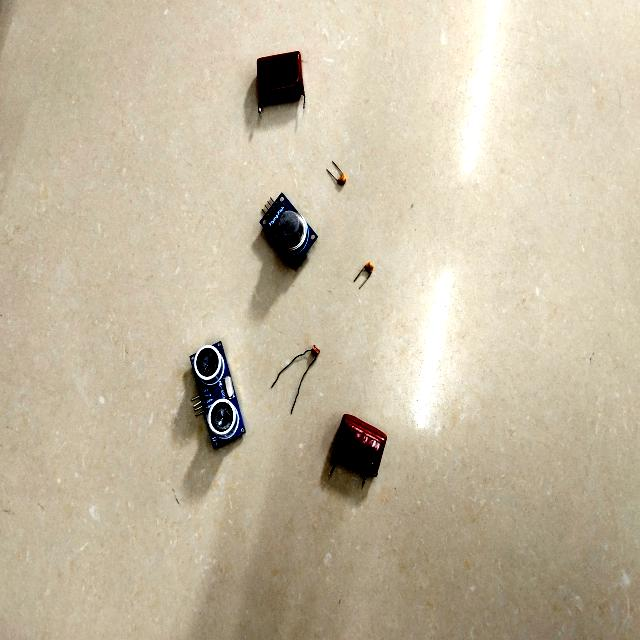capacitor: (330, 416, 386, 479), (256, 52, 304, 107), (355, 264, 373, 287), (337, 172, 346, 186)
